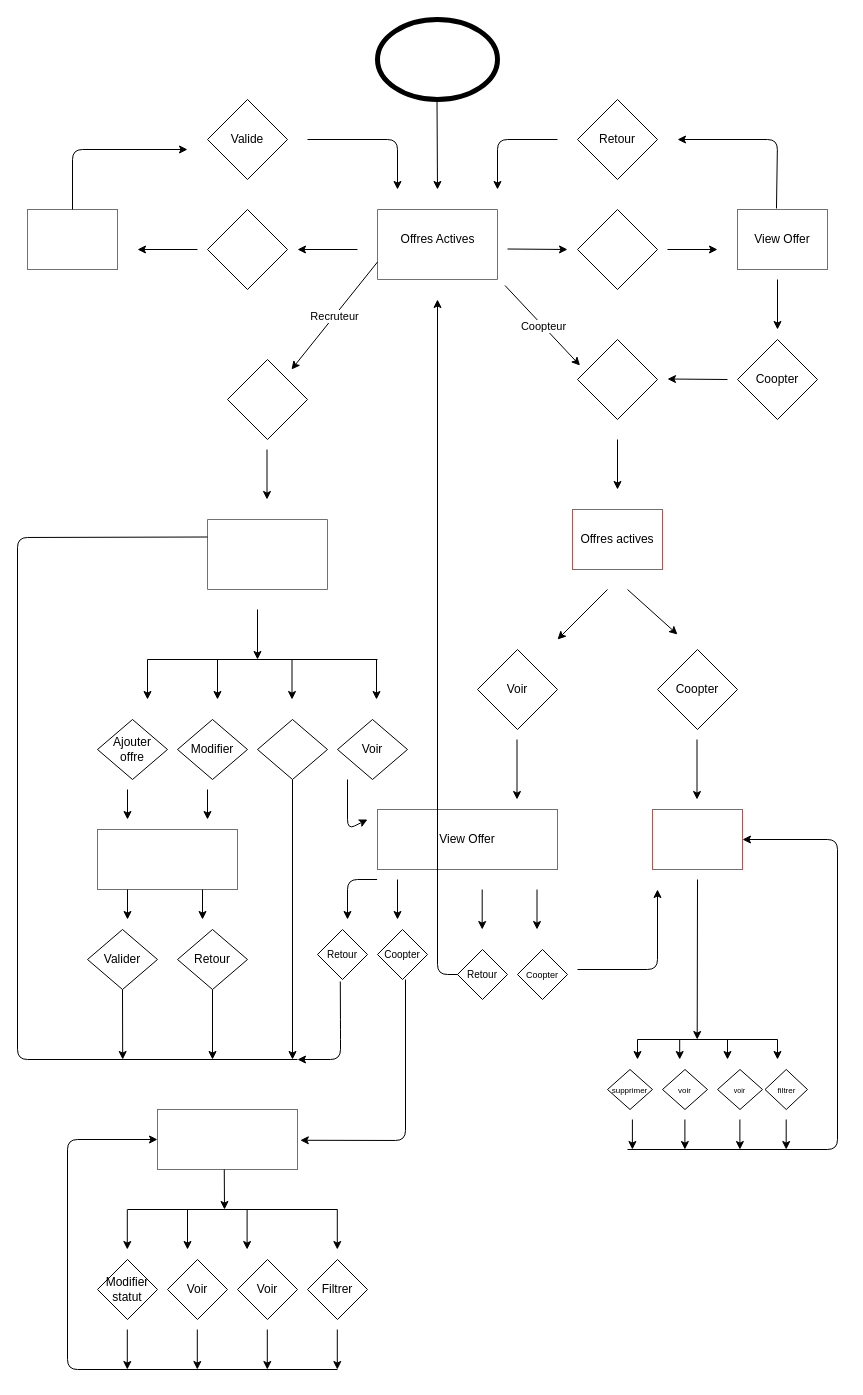
This 863x1395 diagram has some shape labels left out. Each missing label, with the box of its shape:
Account: (26, 208, 118, 270)
Ajout Cooptation: (652, 808, 742, 870)
Ajout ou modifier offre: (96, 828, 238, 890)
Archiver: (256, 718, 328, 780)
Cooptations: (156, 1108, 298, 1170)
Let's go!: (374, 16, 500, 102)
Offres actives et Non actives: (206, 518, 328, 590)
Profit: (206, 208, 288, 290)
Sign in Sign up: (576, 338, 658, 420)
Sign-in Sign up: (226, 358, 308, 440)
Voir Offre: (576, 208, 658, 290)
